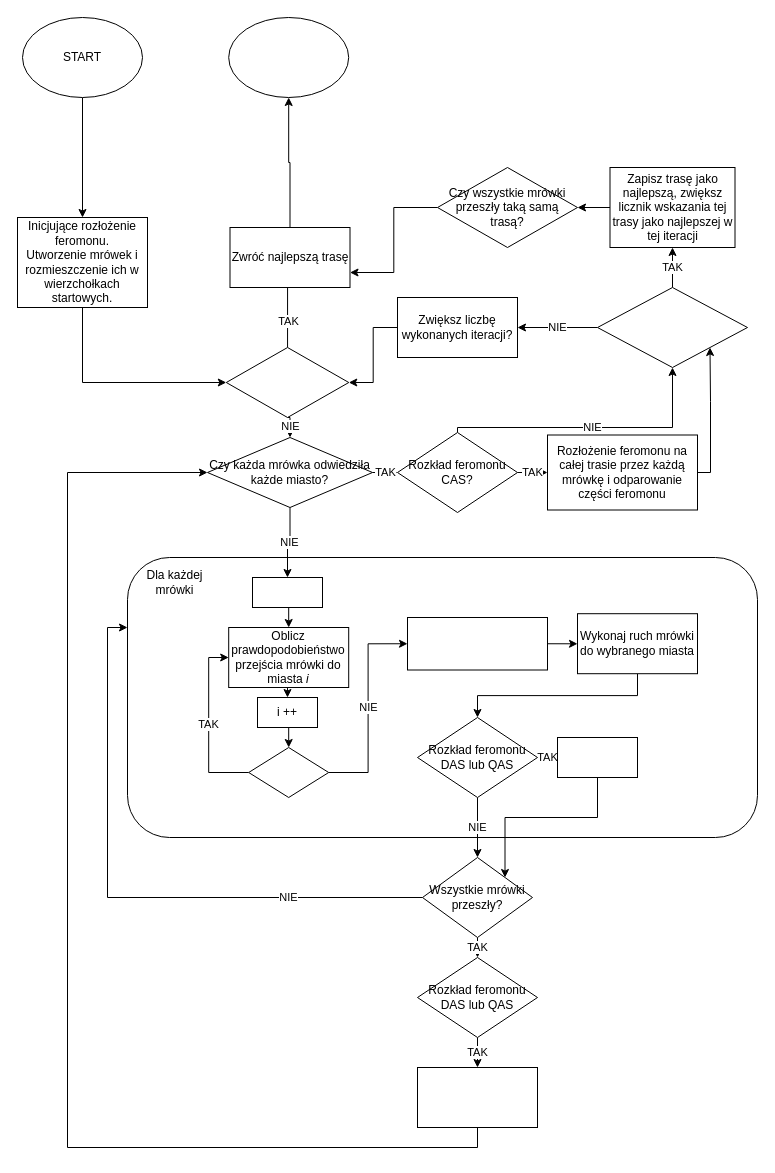
Image size: 775x1173. Some labels were removed from this diagram. Each missing label, with the centre of its shape:
"Czy wykonana została zadana liczba iteracji ( iterations )?" belongs at (x=287, y=382).
"i < n" belongs at (x=288, y=772).
"i = 0" belongs at (x=287, y=592).
"Mrówka przeszła cykl Hamiltona, krótszy niż dotychczas zapisany" belongs at (x=672, y=327).
"Odparuj część feromonu na krawędziach" belongs at (x=477, y=1097).
"Rozłóż feromon na krawędzi" belongs at (x=597, y=757).
"STOP" belongs at (x=288, y=57).
"Wybierz miasto z puli uwzględniając obliczone prawdopodobieństwa" belongs at (x=477, y=643).
